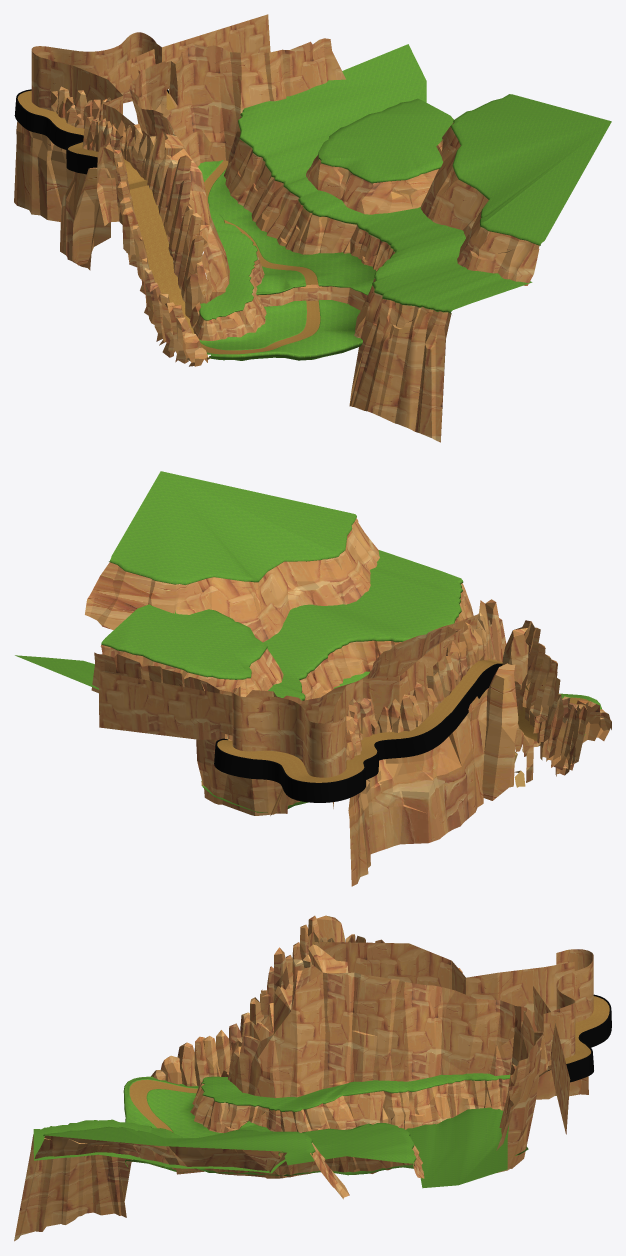
File: Environment.fbx
3 renders of one model, top to bottom at view 1: azimuth 30°, elevation 25°; view 2: azimuth 150°, elevation 25°; view 3: azimuth 270°, elevation 25°, orthographic. The views are drawn at different scales.
Parts seen in each view (by area): view 1: Environment; view 2: Environment; view 3: Environment.
Part boxes in pixels (left/top/right/bottom): Environment: left=14, top=14, right=611, bottom=442; Environment: left=15, top=471, right=611, bottom=886; Environment: left=14, top=915, right=611, bottom=1241.
Size of the model in its own units: 30863 by 16080 by 35812.
